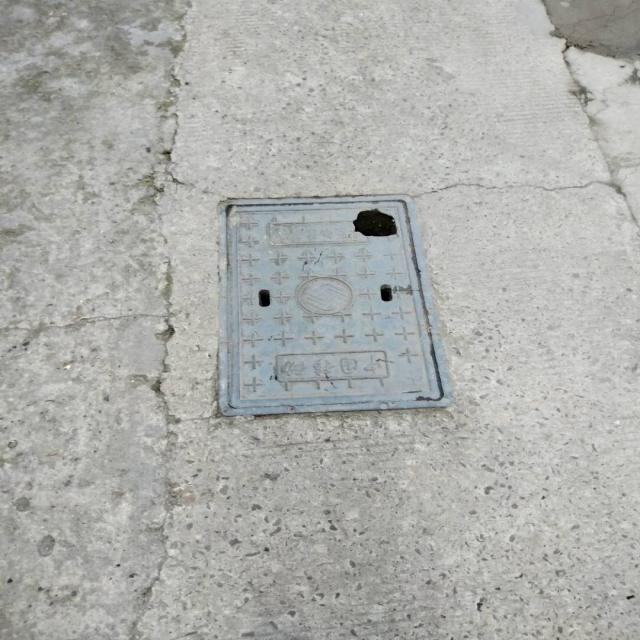Faulty: (216, 193, 452, 414)
